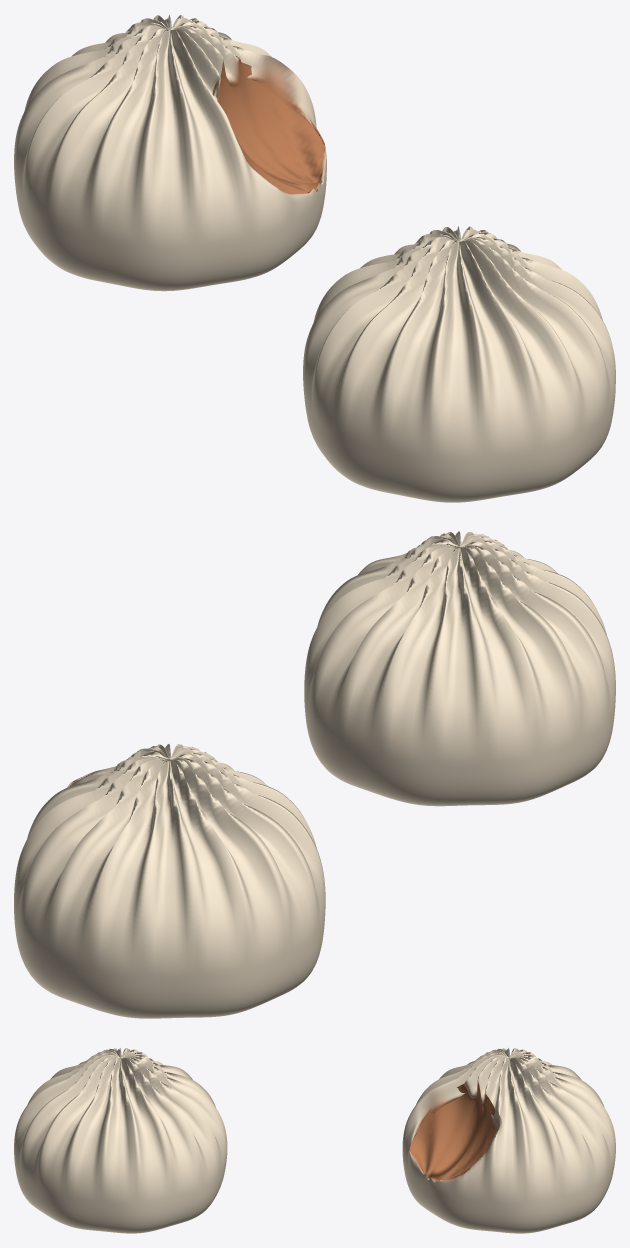
Rendered from xiaolongbao.glb.
3 renders of one model, top to bottom at view 1: azimuth 30°, elevation 25°; view 2: azimuth 150°, elevation 25°; view 3: azimuth 270°, elevation 25°, orthographic. The views are drawn at different scales.
Visible parts, largest first — view 1: XiaolongbaoBody, XiaolongbaoBitten; view 2: XiaolongbaoBody, XiaolongbaoBitten; view 3: XiaolongbaoBody, XiaolongbaoBitten.
Boxes of the visible parts, x1=… form: XiaolongbaoBody: x1=303, y1=226, x2=615, y2=502; XiaolongbaoBitten: x1=14, y1=14, x2=326, y2=291; XiaolongbaoBody: x1=304, y1=531, x2=615, y2=806; XiaolongbaoBitten: x1=14, y1=743, x2=325, y2=1018; XiaolongbaoBody: x1=14, y1=1048, x2=227, y2=1233; XiaolongbaoBitten: x1=402, y1=1048, x2=615, y2=1233.
Size of the model in its own units: 0.54 by 0.4153 by 1.55.
